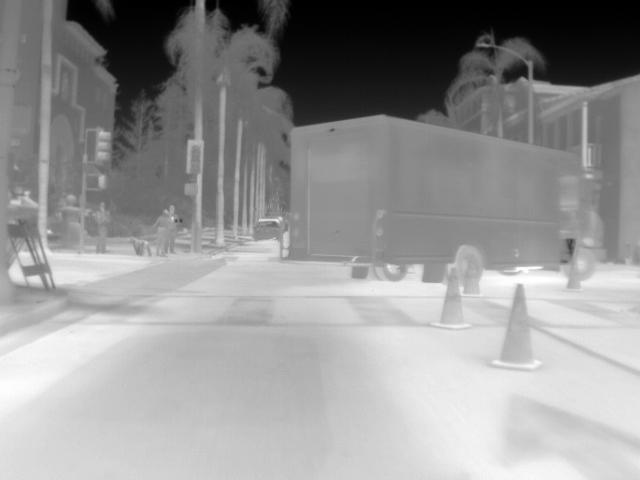car: (251, 218, 284, 244)
dog: (127, 234, 154, 260)
person: (91, 201, 111, 251), (149, 208, 168, 257), (168, 205, 180, 254)
